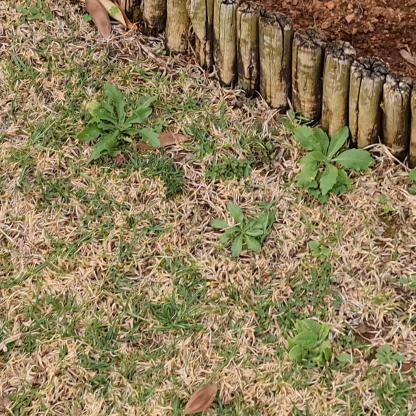Weeds: (75, 84, 161, 164), (290, 123, 375, 198), (212, 202, 271, 257), (290, 316, 339, 367), (376, 344, 403, 373), (310, 240, 332, 263)
